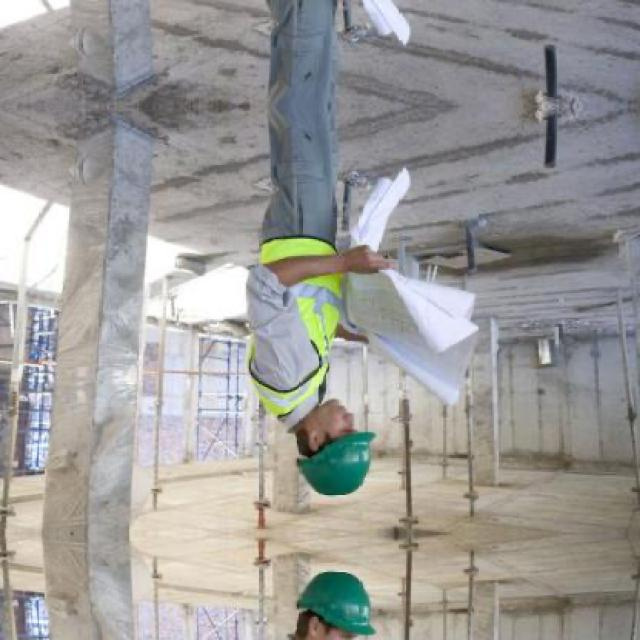con casco: (215, 339, 394, 508)
